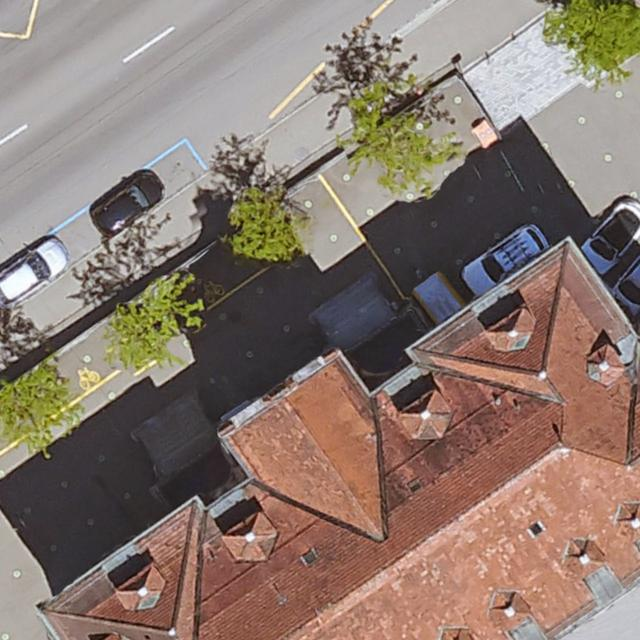tree: (353, 85, 433, 171), (116, 281, 203, 358), (551, 0, 640, 64), (231, 193, 303, 258), (0, 362, 61, 432)
